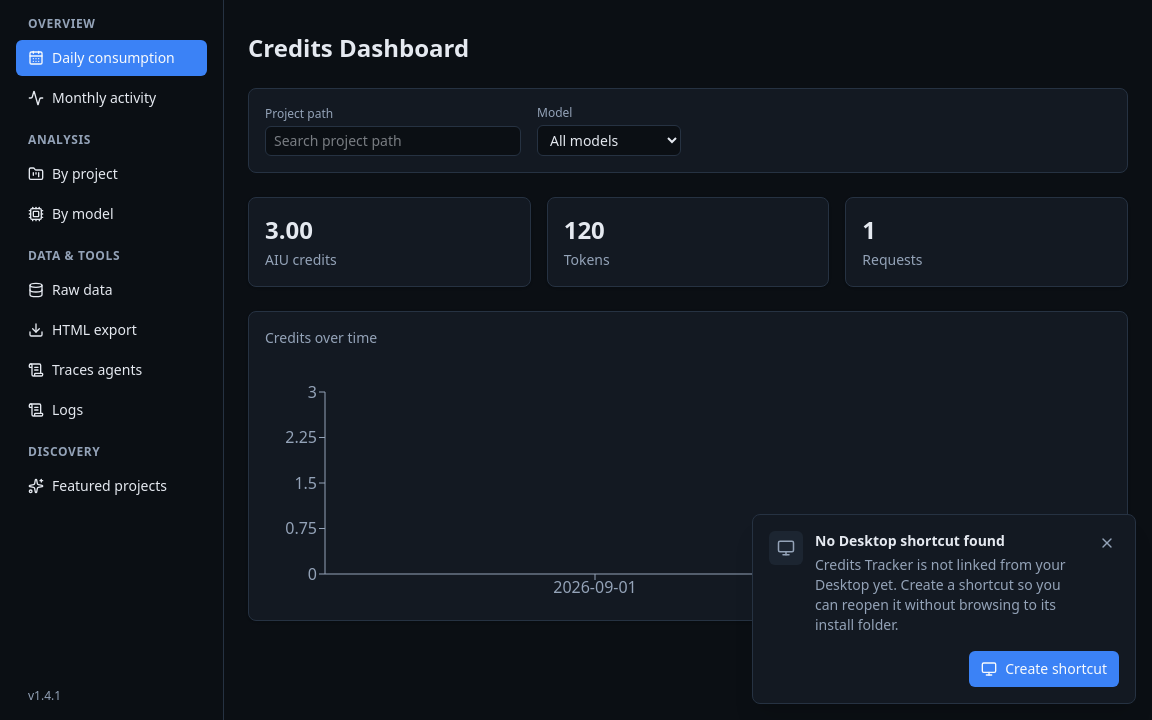
App › shows the desktop shortcut toast without blocking the dashboard and closes it after creating the shortcut
expect the text "3.00" is shown: met, box [265,214,313,246]
expect the heading "No Desktop shortcut found" is shown: met, box [815,531,1005,550]
What coordinates should you click on to do the following:
click the button "Create shortcut"
I would click on:
 (1044, 669)
Its box is [969,651,1119,687].
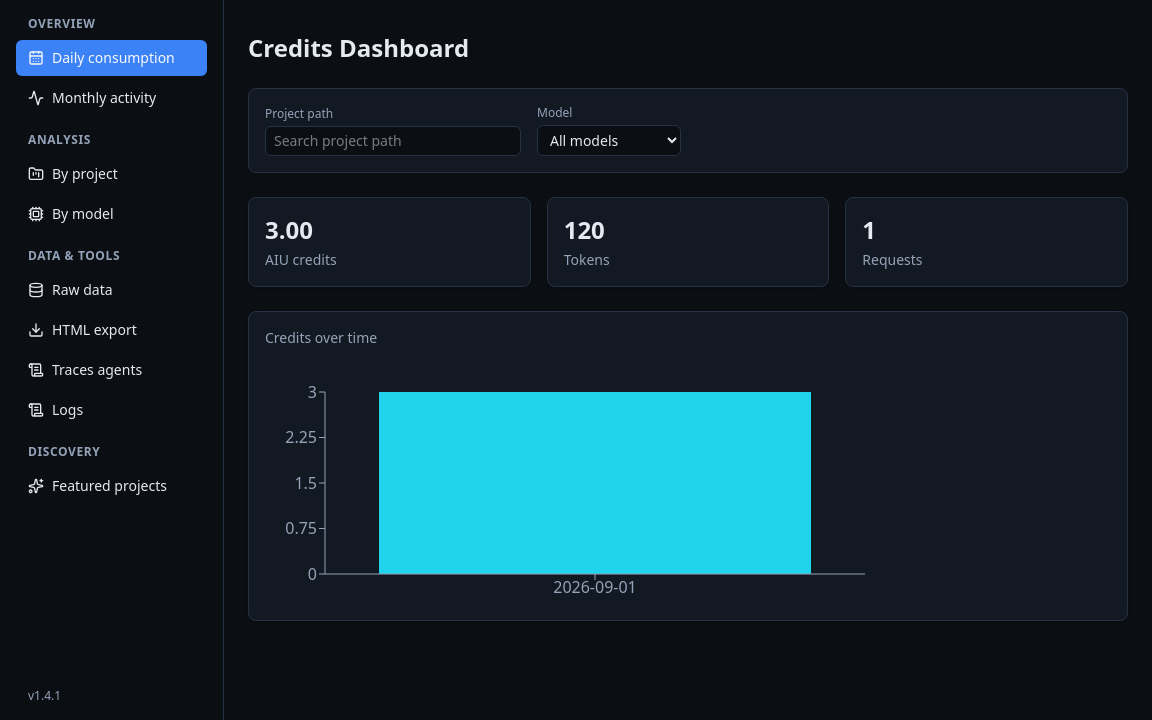
expect the heading "No Desktop shortcut found" is gone: met
